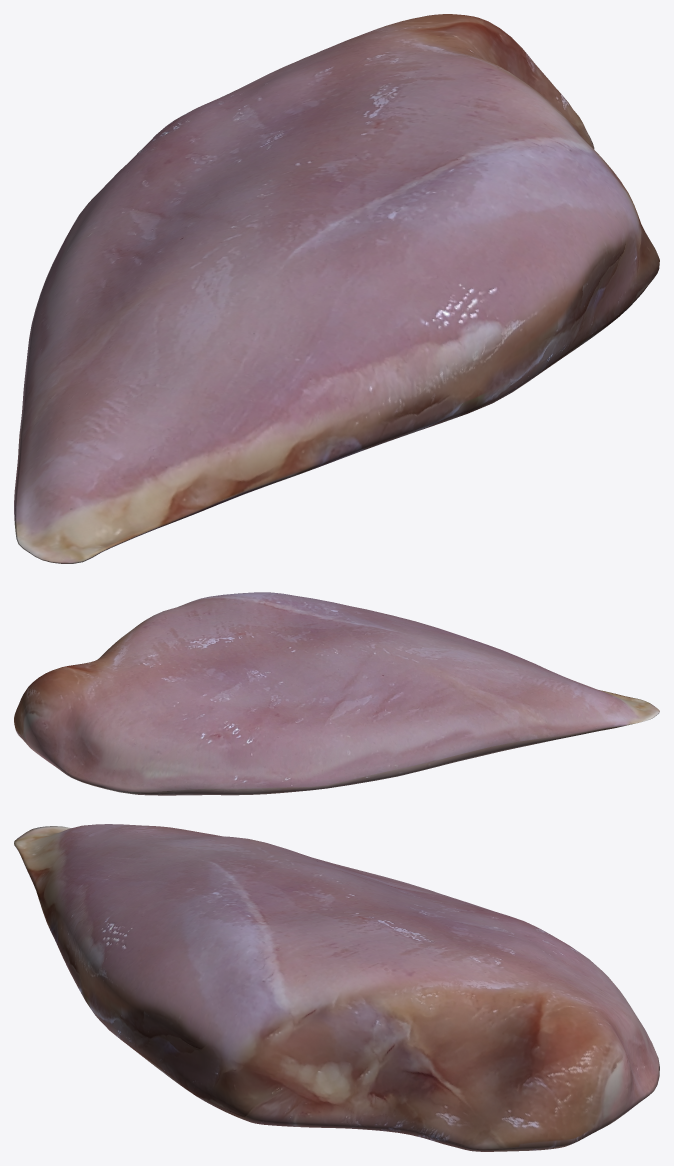
File: chicken_breast.fbx
3 renders of one model, top to bottom at view 1: azimuth 30°, elevation 25°; view 2: azimuth 150°, elevation 25°; view 3: azimuth 270°, elevation 25°, orthographic. The views are drawn at different scales.
Visible parts, largest first — view 1: Plane.001_0; view 2: Plane.001_0; view 3: Plane.001_0.
Boxes of the visible parts, x1,y1,x2,y2 form: Plane.001_0: (14, 14, 659, 563); Plane.001_0: (14, 592, 659, 795); Plane.001_0: (14, 824, 659, 1151).
Bounding box in the file's own units: 131 × 30.25 × 107.
